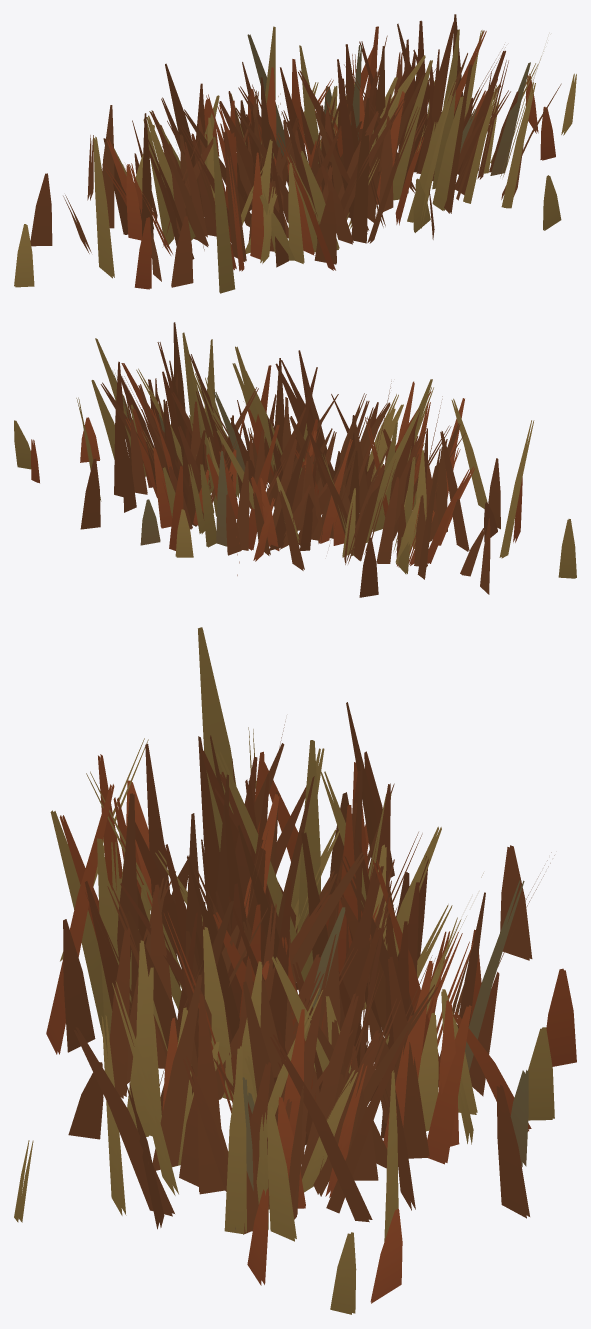
Rendered from VerGrass02.glb.
3 renders of one model, top to bottom at view 1: azimuth 30°, elevation 25°; view 2: azimuth 150°, elevation 25°; view 3: azimuth 270°, elevation 25°, orthographic. The views are drawn at different scales.
Parts seen in each view (by area): view 1: VerGrass02_blades; view 2: VerGrass02_blades; view 3: VerGrass02_blades.
Part boxes in pixels (left/top/right/bottom): VerGrass02_blades: left=14, top=14, right=576, bottom=293; VerGrass02_blades: left=14, top=322, right=576, bottom=597; VerGrass02_blades: left=14, top=627, right=576, bottom=1314.
Bounding box in the file's own units: 3.65 × 0.914 × 1.76.
